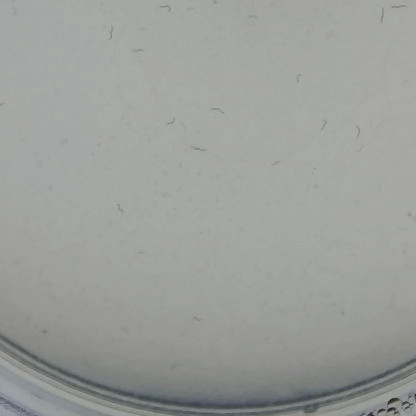worm: (203, 100, 229, 122), (183, 139, 211, 159), (311, 113, 333, 136), (102, 23, 123, 44), (160, 111, 180, 133), (376, 3, 390, 28), (125, 45, 150, 59), (186, 312, 211, 326), (240, 10, 263, 25), (156, 0, 176, 16), (392, 0, 413, 14), (113, 201, 131, 217), (290, 71, 307, 86), (184, 1, 200, 16), (269, 157, 290, 168), (350, 121, 362, 139), (352, 140, 368, 153), (284, 116, 302, 127), (404, 206, 416, 221)
